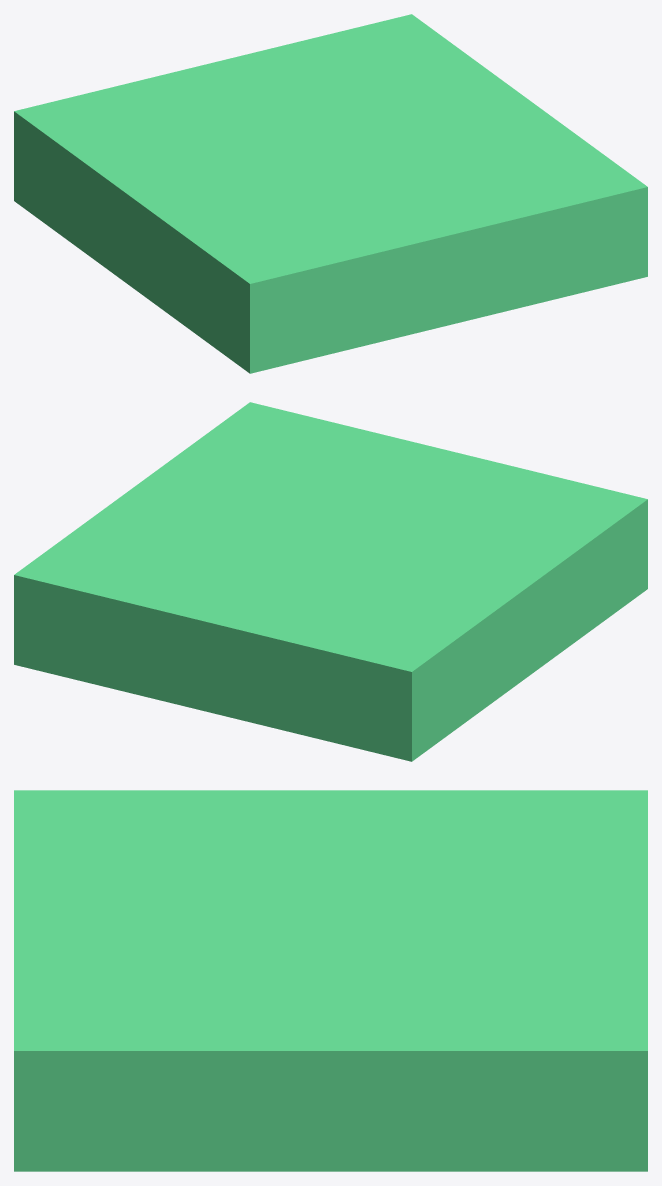
Rendered from rubble_pile_h.glb.
3 views of the same model, one above another, from view 1: azimuth 30°, elevation 25°; view 2: azimuth 150°, elevation 25°; view 3: azimuth 270°, elevation 25° (orthographic). The views are drawn at different scales.
Parts seen in each view (by area): view 1: rubble_pile_h-col; view 2: rubble_pile_h-col; view 3: rubble_pile_h-col.
Part boxes in pixels (bbox=[...]): rubble_pile_h-col: bbox=[14, 14, 647, 373]; rubble_pile_h-col: bbox=[14, 402, 647, 761]; rubble_pile_h-col: bbox=[14, 790, 647, 1171].
Size of the model in its own units: 3.77 by 0.8136 by 3.88.
